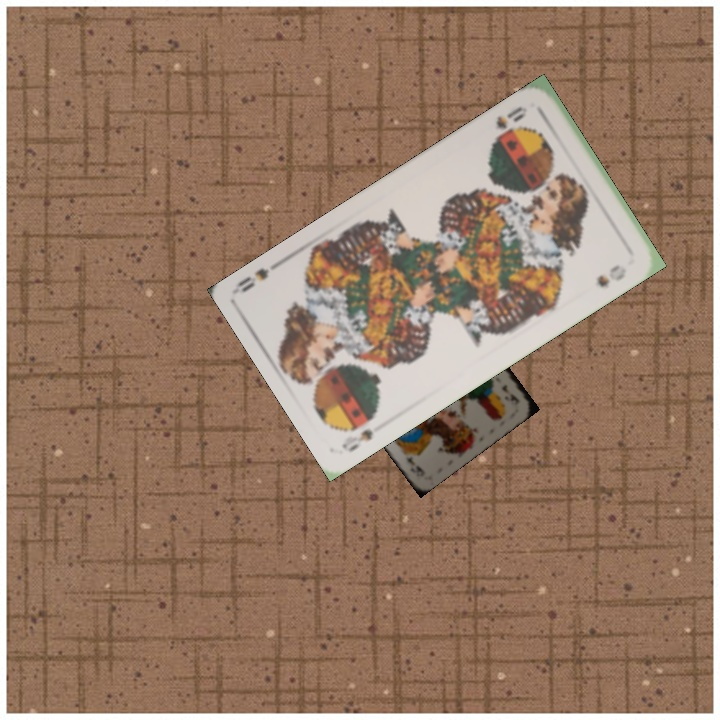EK: (498, 381, 522, 408)
SO: (492, 102, 530, 132), (338, 425, 376, 455)
